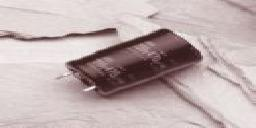Electrolytic-capacitor: (56, 28, 206, 98)
